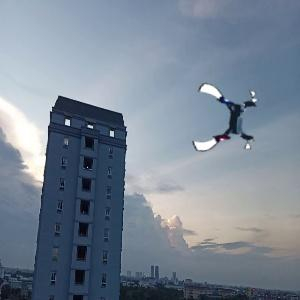drone: (190, 86, 261, 157)
